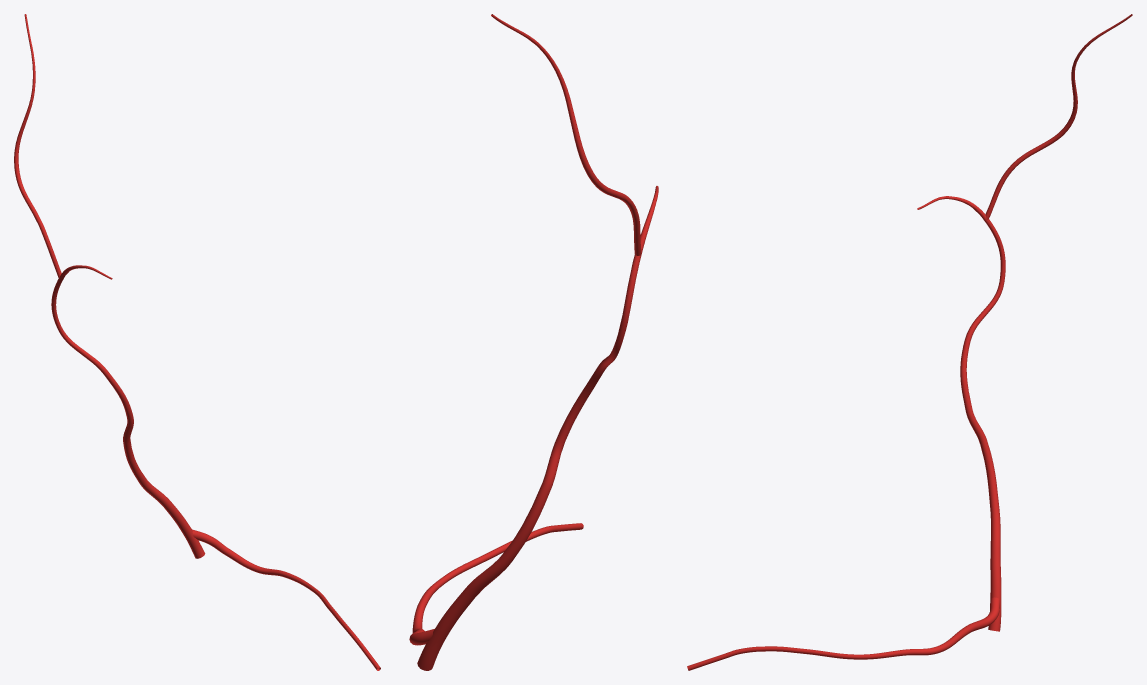
Rendered from circulatorio-retromandibular-vein-r.glb.
3 renders of one model, left to right at view 1: azimuth 30°, elevation 25°; view 2: azimuth 150°, elevation 25°; view 3: azimuth 270°, elevation 25°, orthographic. The views are drawn at different scales.
Parts seen in each view (by area): view 1: Superficial temporal veins.r, Maxillary veins.r, Retromandibular vein.r; view 2: Superficial temporal veins.r, Maxillary veins.r, Retromandibular vein.r; view 3: Superficial temporal veins.r, Maxillary veins.r, Retromandibular vein.r.
Part boxes in pixels (bbox=[...]): Superficial temporal veins.r: bbox=[14, 14, 171, 507]; Maxillary veins.r: bbox=[192, 529, 380, 670]; Retromandibular vein.r: bbox=[164, 502, 205, 558]; Superficial temporal veins.r: bbox=[465, 14, 658, 597]; Maxillary veins.r: bbox=[409, 523, 583, 645]; Retromandibular vein.r: bbox=[417, 588, 474, 670]; Superficial temporal veins.r: bbox=[917, 14, 1132, 550]; Maxillary veins.r: bbox=[687, 597, 999, 670]; Retromandibular vein.r: bbox=[988, 550, 1001, 631].
Bounding box in the file's own units: 0.0506 × 0.1273 × 0.0887.
